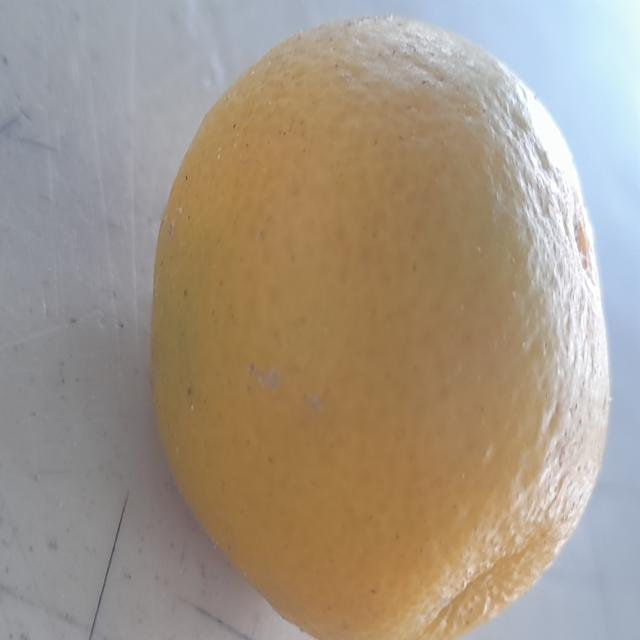greening: (146, 0, 615, 640)
